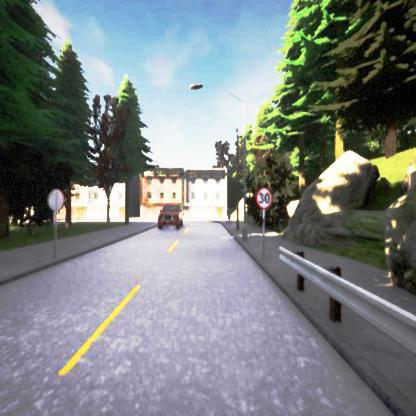vehicle: (158, 204, 183, 230)
